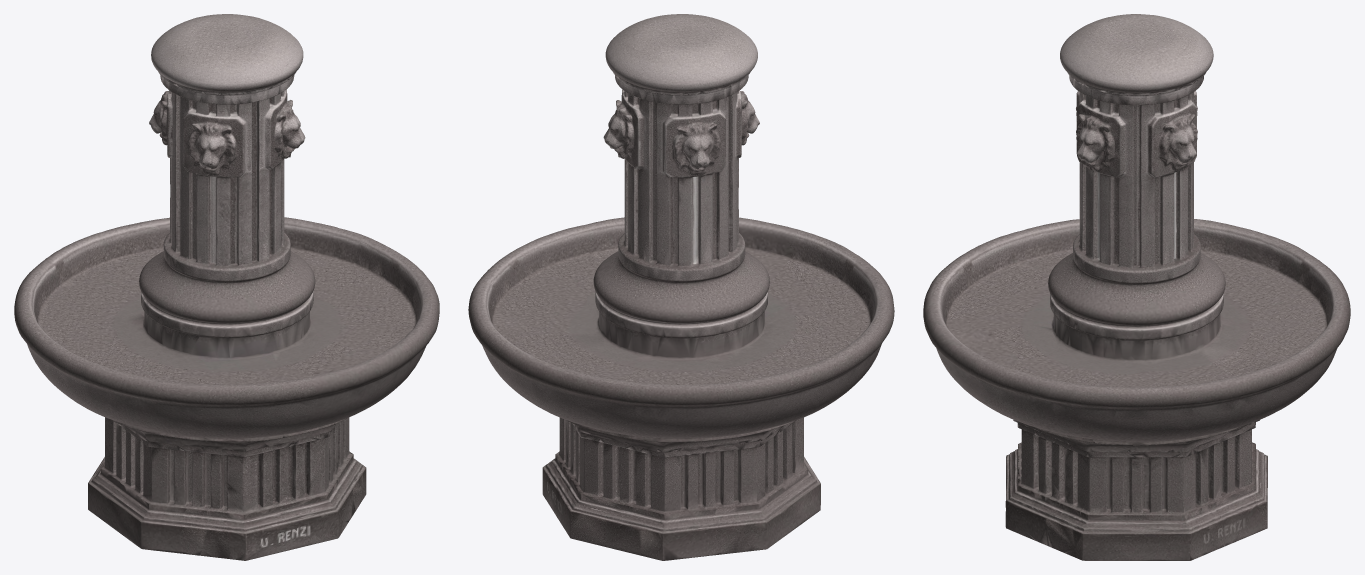
File: fountain_vintage.glb
3 views of the same model, side by side, from view 1: azimuth 30°, elevation 25°; view 2: azimuth 150°, elevation 25°; view 3: azimuth 270°, elevation 25° (orthographic).
Parts seen in each view (by area): view 1: fountain_vintage; view 2: fountain_vintage; view 3: fountain_vintage.
Boxes of the visible parts, x1,y1,x2,y2 form: fountain_vintage: (14, 14, 439, 560); fountain_vintage: (468, 14, 894, 560); fountain_vintage: (923, 14, 1350, 560).
Size of the model in its own units: 1.56 by 1.9 by 1.56.
Materials: 1 (1 with a texture image).
